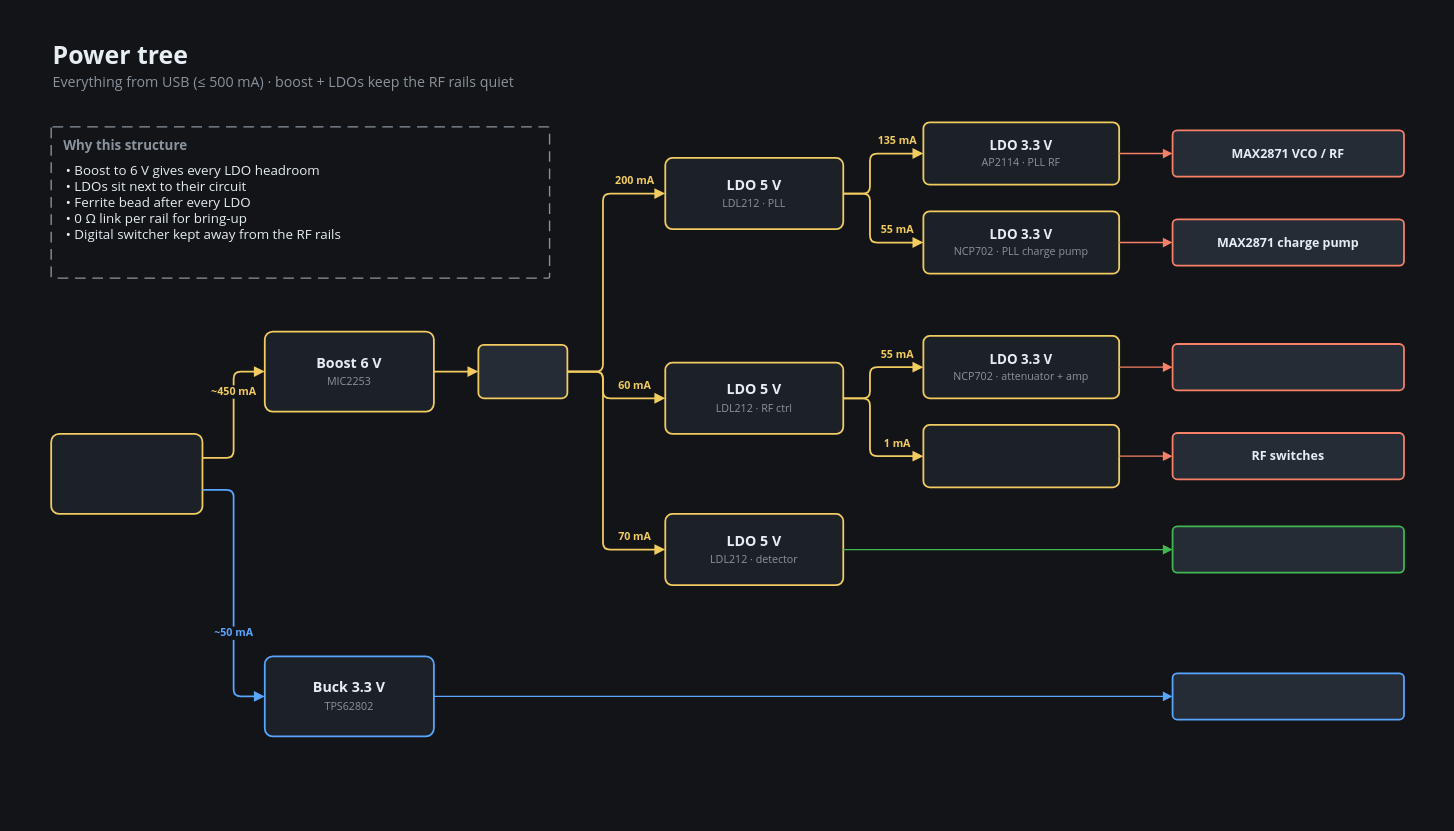
Image size: 1454x831. Some labels were removed from this diagram. The shapes that lost their labels are listed below. From the top down, each one's centre as x and y in pixels, then its label:
the point at 522,371: LC filter
the point at 1287,367: HMC1119 · TRF37A73
the point at 126,473: USB-C 5 V · ~500 mA
the point at 1021,456: LDO 3.3 V NCP702 · RF switches
the point at 1287,549: AD8318 log detector
the point at 1287,696: RP2350B · flash · EEPROM · LEDs
